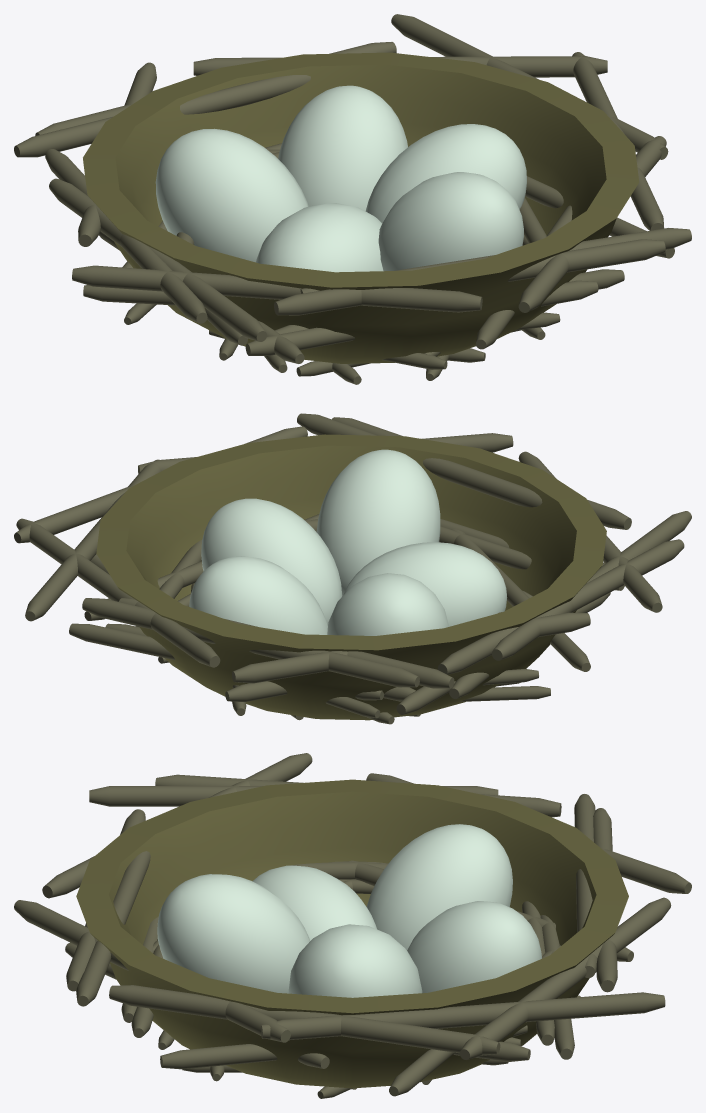
File: Nest.fbx
3 views of the same model, one above another, from view 1: azimuth 30°, elevation 25°; view 2: azimuth 150°, elevation 25°; view 3: azimuth 270°, elevation 25° (orthographic). The views are drawn at different scales.
Visible parts, largest first — view 1: pSphere10, pSphere11, pSphere15, pSphere12, pSphere13, pSphere14, pCylinder510, pCylinder486, pCylinder493, pCylinder511, pCylinder497, pCylinder496 (+14 smaller); view 2: pSphere10, pSphere12, pSphere13, pSphere15, pSphere14, pSphere11, pCylinder495, pCylinder494, pCylinder497, pCylinder490, pCylinder492, pCylinder511 (+19 smaller); view 3: pSphere10, pSphere12, pSphere11, pSphere15, pSphere13, pCylinder496, pCylinder512, pSphere14, pCylinder494, pCylinder491, pCylinder511, pCylinder490 (+16 smaller).
Part boxes in pixels (x1,y1,x2,y2): pSphere10: (83, 52, 639, 363); pSphere11: (155, 128, 308, 262); pSphere15: (278, 85, 407, 211); pSphere12: (378, 172, 523, 271); pSphere13: (365, 124, 526, 223); pSphere14: (256, 203, 383, 272); pCylinder510: (72, 265, 482, 312); pCylinder486: (274, 239, 665, 315); pCylinder493: (14, 75, 310, 157); pCylinder511: (49, 178, 266, 341); pCylinder497: (45, 149, 207, 323); pCylinder496: (391, 14, 668, 159); pSphere10: (96, 434, 606, 720); pSphere12: (316, 449, 440, 596); pSphere13: (201, 498, 341, 625); pSphere15: (189, 556, 327, 634); pSphere14: (343, 542, 507, 626); pSphere11: (327, 573, 448, 635); pCylinder495: (82, 598, 419, 687); pCylinder494: (16, 518, 220, 667); pCylinder497: (437, 539, 684, 674); pCylinder490: (297, 413, 542, 507); pCylinder492: (232, 612, 590, 683); pCylinder511: (491, 511, 691, 660); pSphere10: (76, 779, 628, 1088); pSphere12: (157, 874, 309, 993); pSphere11: (366, 824, 512, 949); pSphere15: (407, 901, 541, 993); pSphere13: (288, 924, 422, 997); pCylinder496: (261, 992, 665, 1040); pCylinder512: (109, 985, 500, 1055); pSphere14: (252, 865, 376, 940); pCylinder494: (460, 897, 671, 1059); pCylinder491: (14, 900, 290, 1042); pCylinder511: (89, 786, 498, 806); pCylinder490: (76, 851, 150, 1006).
Bounding box in the file's own units: 1.1 × 0.3049 × 1.05.
